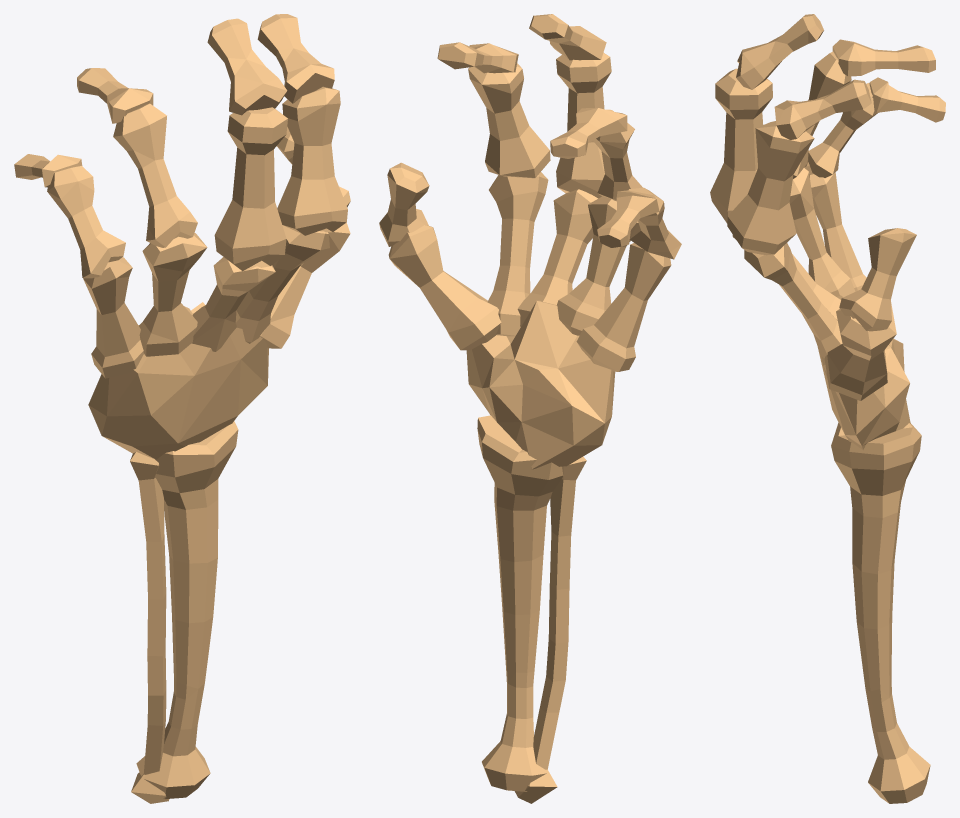
File: WF_LP_HT_Props_HandBones.fbx
3 renders of one model, left to right at view 1: azimuth 30°, elevation 25°; view 2: azimuth 150°, elevation 25°; view 3: azimuth 270°, elevation 25°, orthographic. The views are drawn at different scales.
Parts seen in each view (by area): view 1: WF_LP_HT_Props_HandBones; view 2: WF_LP_HT_Props_HandBones; view 3: WF_LP_HT_Props_HandBones.
Part boxes in pixels (x1,y1,x2,y2): WF_LP_HT_Props_HandBones: [14, 14, 350, 803]; WF_LP_HT_Props_HandBones: [379, 14, 681, 803]; WF_LP_HT_Props_HandBones: [710, 14, 945, 803].
Bounding box in the file's own units: 0.2663 × 0.6835 × 0.184.
